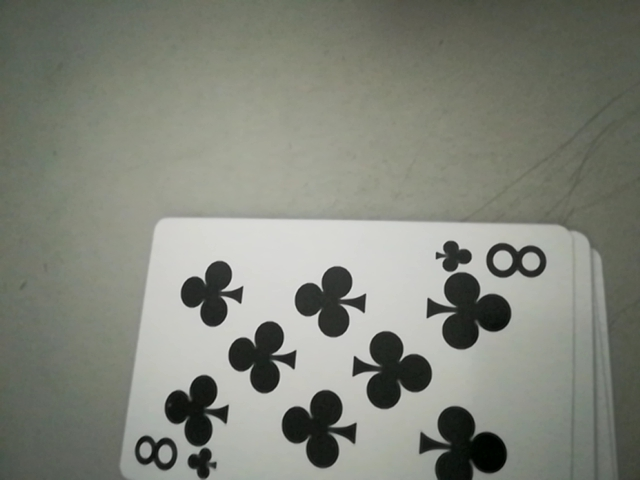mh 8: (435, 234, 552, 283), (129, 433, 214, 480)
